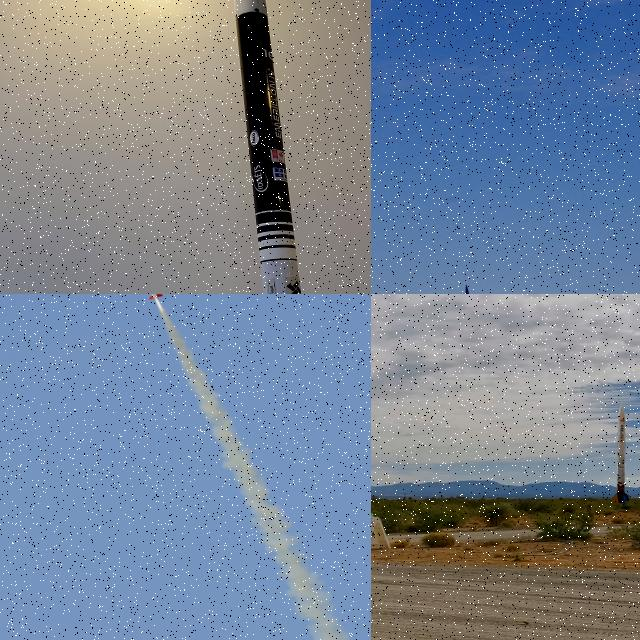Rocket: (233, 0, 302, 294), (612, 403, 629, 505), (463, 284, 479, 294)
